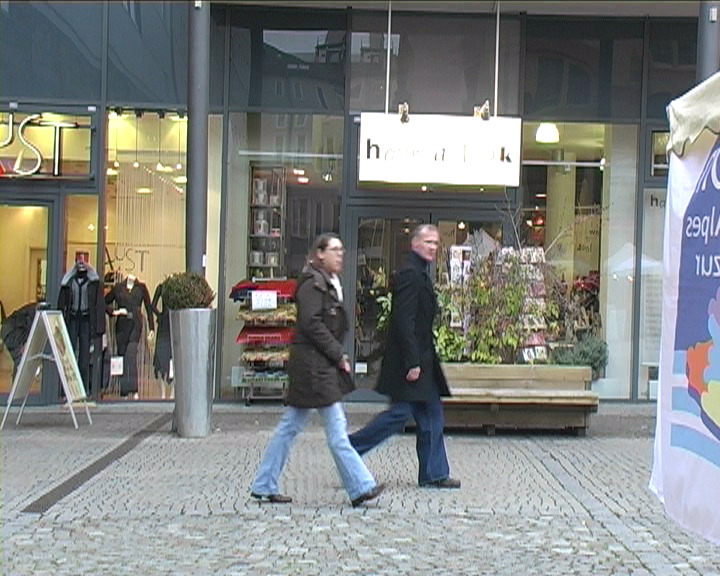deflection: (288, 231, 354, 354), (387, 222, 448, 349)
